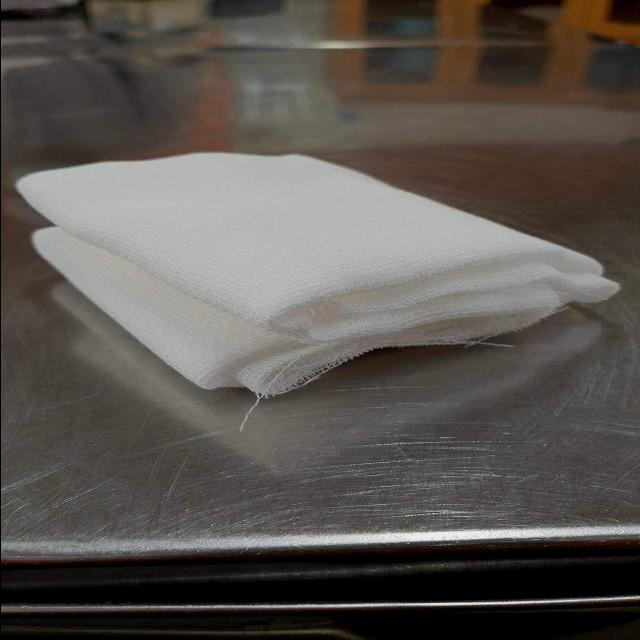General: (3, 3, 638, 635)
Infectious: (15, 149, 621, 427)
